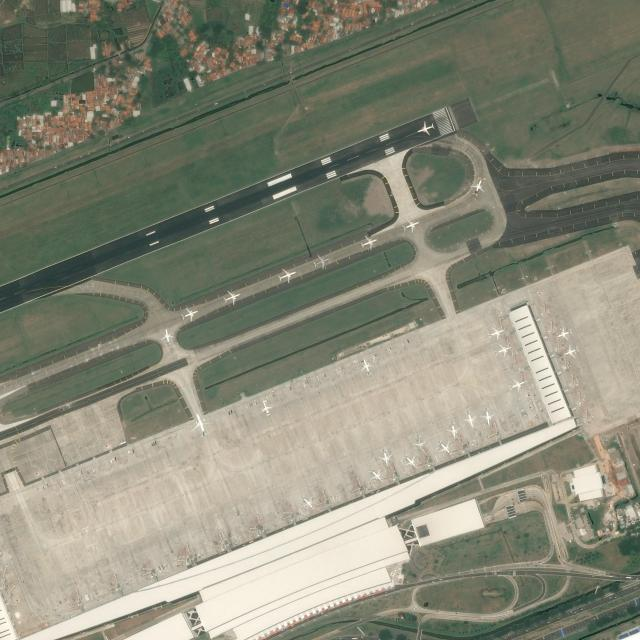aircraft: (190, 412, 212, 437), (217, 292, 243, 307), (188, 411, 205, 433), (400, 218, 422, 234), (416, 120, 436, 136), (181, 306, 201, 321), (417, 120, 435, 136), (359, 234, 377, 250), (277, 268, 296, 283), (278, 268, 298, 282), (462, 410, 477, 428), (312, 255, 331, 269), (222, 290, 241, 304), (493, 343, 515, 355), (508, 378, 528, 391), (402, 218, 419, 233), (312, 254, 329, 269), (160, 328, 175, 345), (359, 358, 374, 375), (358, 236, 376, 250), (562, 344, 580, 358), (403, 455, 421, 469), (470, 178, 484, 196), (180, 307, 198, 321), (378, 448, 392, 466), (480, 408, 494, 426), (508, 378, 526, 392), (494, 343, 512, 357), (487, 326, 505, 340), (158, 328, 174, 343), (486, 326, 506, 338), (481, 408, 496, 424), (412, 435, 427, 451), (555, 326, 572, 340), (402, 454, 418, 468), (436, 440, 452, 454), (446, 422, 460, 438), (556, 326, 572, 340), (563, 344, 579, 358), (360, 358, 375, 372), (368, 468, 383, 482), (412, 437, 429, 449), (472, 178, 484, 195), (300, 495, 314, 509), (463, 412, 476, 427), (368, 469, 383, 482), (378, 450, 394, 462), (302, 495, 314, 511), (260, 400, 272, 416), (447, 423, 458, 439), (437, 441, 451, 453), (260, 401, 272, 414)
